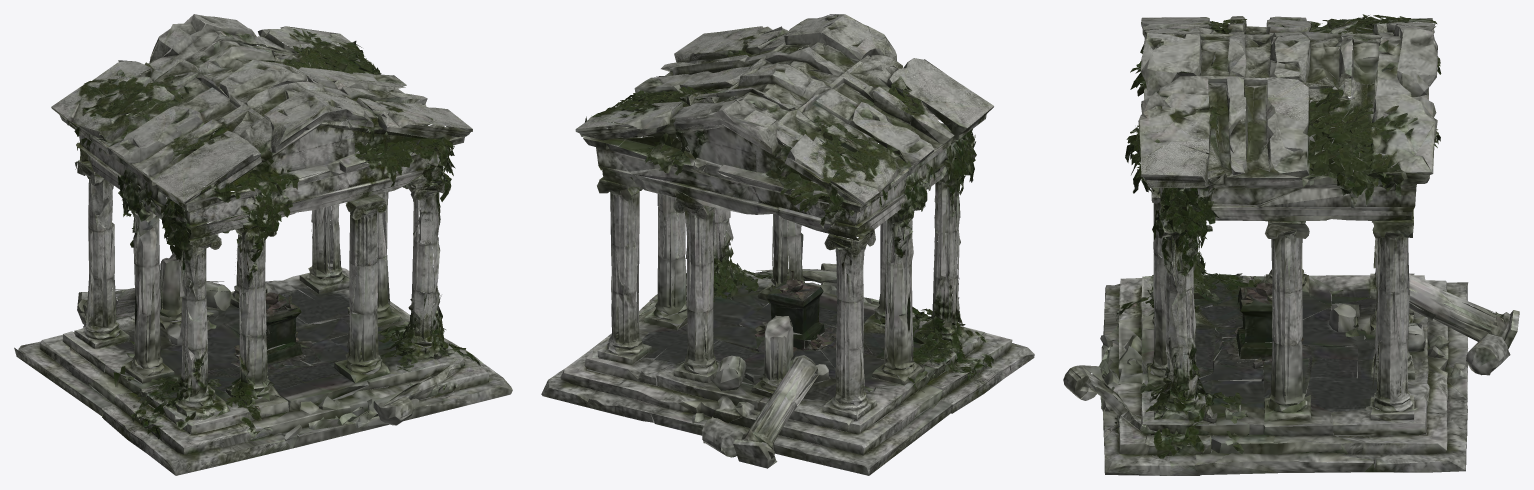
The model's file is temple.glb.
3 views of the same model, side by side, from view 1: azimuth 30°, elevation 25°; view 2: azimuth 150°, elevation 25°; view 3: azimuth 270°, elevation 25° (orthographic). The views are drawn at different scales.
Visible parts, largest first — view 1: Mesh_0; view 2: Mesh_0; view 3: Mesh_0.
Boxes of the visible parts, x1=… form: Mesh_0: x1=14, y1=14, x2=512, y2=475; Mesh_0: x1=541, y1=14, x2=1034, y2=475; Mesh_0: x1=1063, y1=14, x2=1519, y2=475.
Bounding box in the file's own units: 21 × 18.84 × 22.02.
Materials: 1 (1 with a texture image).
